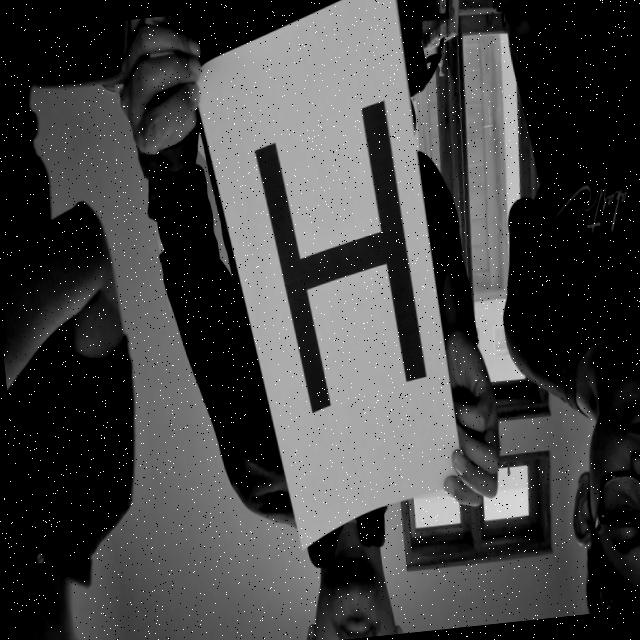h: (242, 66, 451, 442)
